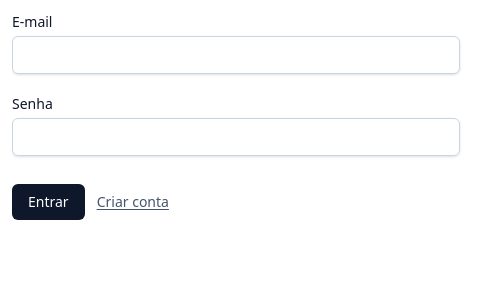
it: LoginForm — envio › o e-mail é REPOPULADO com o que a Action devolveu — não é o que sobrou do que foi digitado
Type "digitado-errado@empresa.com" into the field labelled "E-mail" at (236, 55), box [12, 36, 460, 74]
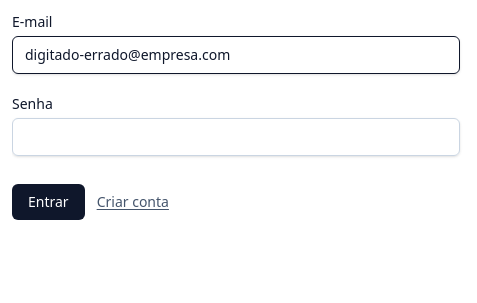
Type "segredo123" into the password field labelled "Senha" at (236, 137), box [12, 118, 460, 156]
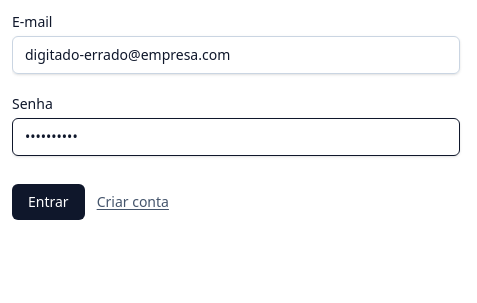
Click the button "Entrar" at (48, 202), box [12, 184, 85, 220]
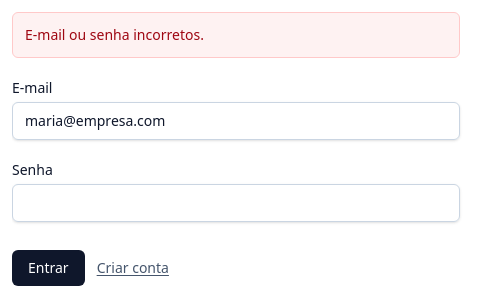
Now the field labelled "E-mail" holds "maria@empresa.com", box [12, 102, 460, 140]
